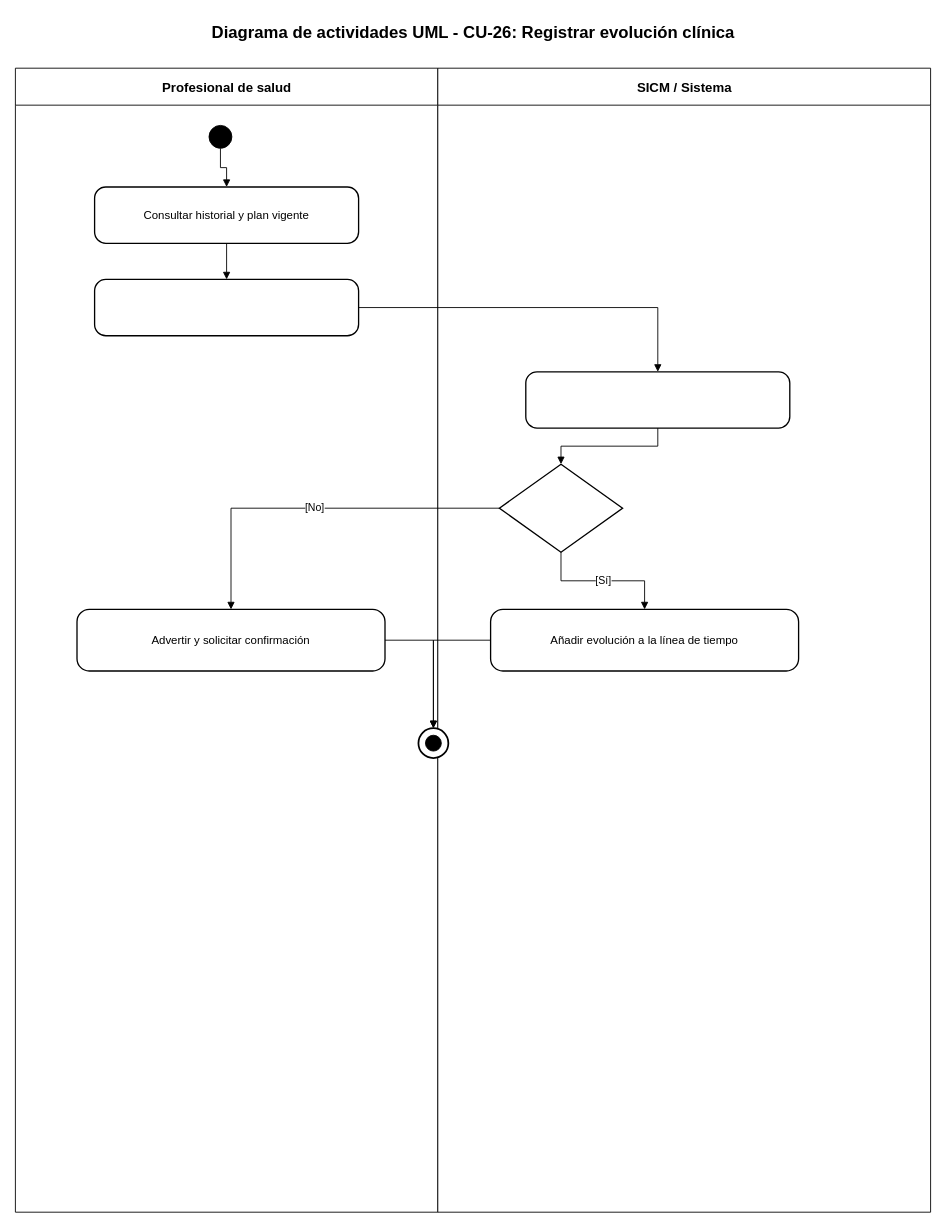
Image size: 946x1228. Some labels were removed from this diagram. Each missing label, with the box of its shape:
Comparar con última evolución: (525, 371, 790, 428)
Registrar observaciones y fecha: (94, 278, 359, 336)
¿Fecha en orden cronológico?: (498, 463, 623, 552)
